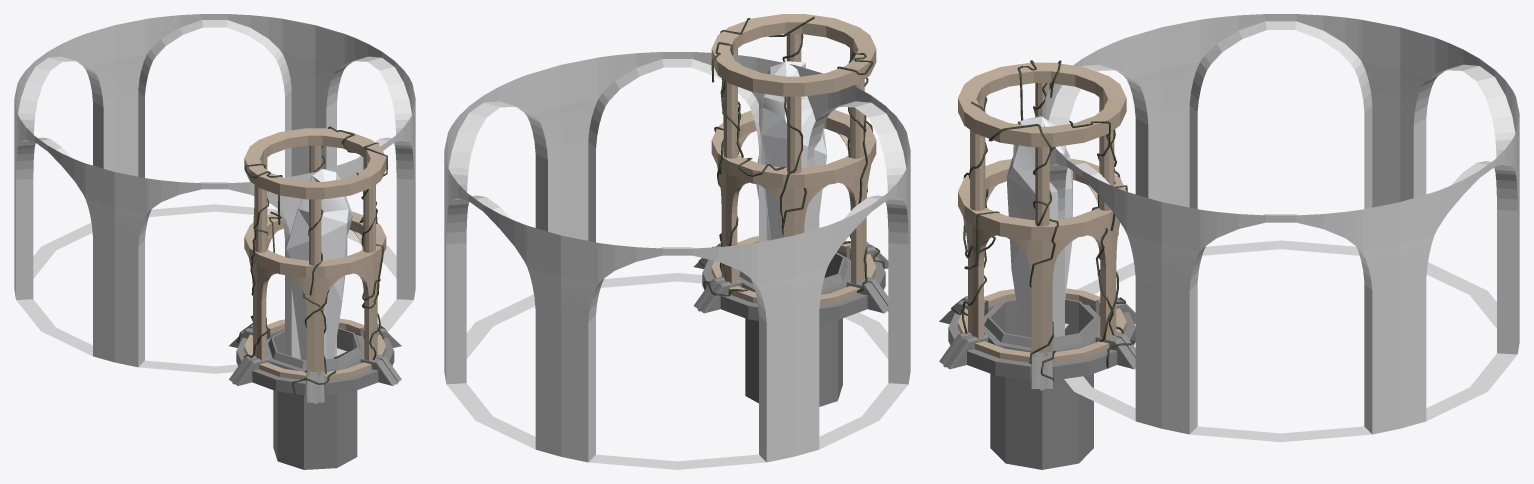
File: AnaKule.fbx
3 renders of one model, left to right at view 1: azimuth 30°, elevation 25°; view 2: azimuth 150°, elevation 25°; view 3: azimuth 270°, elevation 25°, orthographic. The views are drawn at different scales.
Visible parts, largest first — view 1: YEDEK, Torus, YEDEK.008, pCylinder1, YEDEK.001, YEDEK.006, BézierCurve, Cube.032, YEDEK.003, YEDEK.002, Cylinder.008, Cylinder.010 (+1 smaller); view 2: YEDEK, YEDEK.008, YEDEK.001, YEDEK.006, Torus, pCylinder1, BézierCurve, YEDEK.003, Cube.032, YEDEK.002, Cylinder.011, Cylinder.009 (+1 smaller); view 3: YEDEK, Torus, YEDEK.008, YEDEK.001, pCylinder1, YEDEK.006, BézierCurve, Cube.032, YEDEK.003, YEDEK.002, Cylinder.010, Cylinder.012 (+1 smaller).
Boxes of the visible parts, bbox=[...] form: YEDEK: bbox=[14, 14, 415, 373]; Torus: bbox=[266, 327, 364, 469]; YEDEK.008: bbox=[244, 128, 386, 199]; pCylinder1: bbox=[286, 169, 353, 360]; YEDEK.001: bbox=[249, 231, 381, 371]; YEDEK.006: bbox=[244, 211, 386, 277]; BézierCurve: bbox=[237, 126, 387, 393]; Cube.032: bbox=[229, 324, 401, 403]; YEDEK.003: bbox=[236, 328, 394, 395]; YEDEK.002: bbox=[244, 318, 386, 380]; Cylinder.008: bbox=[309, 199, 321, 265]; Cylinder.010: bbox=[363, 185, 375, 252]; YEDEK: bbox=[444, 52, 910, 469]; YEDEK.008: bbox=[711, 14, 876, 96]; YEDEK.001: bbox=[716, 133, 871, 286]; YEDEK.006: bbox=[711, 110, 876, 187]; Torus: bbox=[737, 252, 850, 406]; pCylinder1: bbox=[756, 61, 826, 240]; BézierCurve: bbox=[698, 16, 884, 296]; YEDEK.003: bbox=[702, 250, 885, 322]; Cube.032: bbox=[693, 242, 888, 313]; YEDEK.002: bbox=[711, 236, 876, 304]; Cylinder.011: bbox=[787, 96, 801, 173]; Cylinder.009: bbox=[723, 80, 737, 158]; YEDEK: bbox=[1042, 14, 1519, 442]; Torus: bbox=[984, 299, 1100, 469]; YEDEK.008: bbox=[958, 62, 1126, 147]; YEDEK.001: bbox=[963, 184, 1120, 353]; pCylinder1: bbox=[1006, 116, 1072, 337]; YEDEK.006: bbox=[958, 159, 1126, 240]; BézierCurve: bbox=[951, 60, 1134, 381]; Cube.032: bbox=[939, 296, 1135, 390]; YEDEK.003: bbox=[948, 303, 1135, 380]; YEDEK.002: bbox=[958, 288, 1126, 362]; Cylinder.010: bbox=[970, 130, 985, 210]; Cylinder.012: bbox=[1035, 147, 1049, 226].
Size of the model in its own units: 1146 by 937 by 1393.
